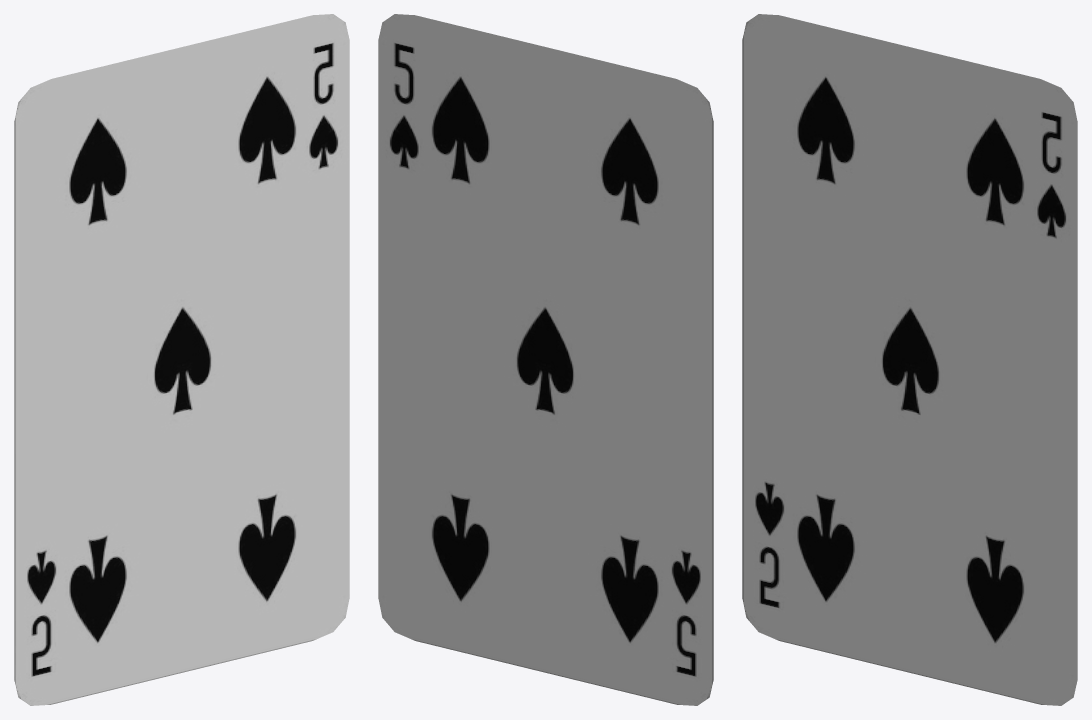
File: 5_spades.glb
3 views of the same model, side by side, from view 1: azimuth 30°, elevation 25°; view 2: azimuth 150°, elevation 25°; view 3: azimuth 330°, elevation 25° (orthographic).
Parts seen in each view (by area): view 1: Five of Spades_13 - Default_0; view 2: Five of Spades_13 - Default_0; view 3: Five of Spades_13 - Default_0.
Part boxes in pixels (x1,y1,x2,y2): Five of Spades_13 - Default_0: (14, 14, 349, 705); Five of Spades_13 - Default_0: (378, 14, 713, 705); Five of Spades_13 - Default_0: (742, 14, 1077, 705).
Size of the model in its own units: 0.2527 by 0.4503 by 2.78e-17.
1 material, 1 textured.
